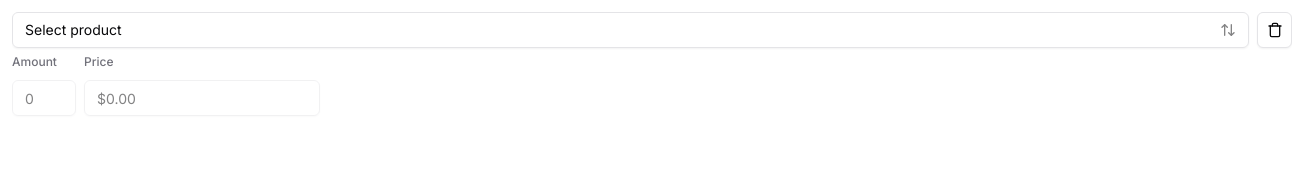
OrderProductField › resets amount to 0 when switching products
Click the dropdown: (73,30) [12,12,1249,48]
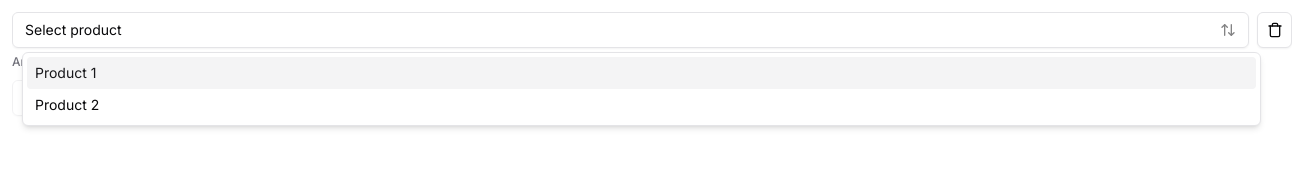
Click the option "Product 1": (66,72) [27,57,1256,89]
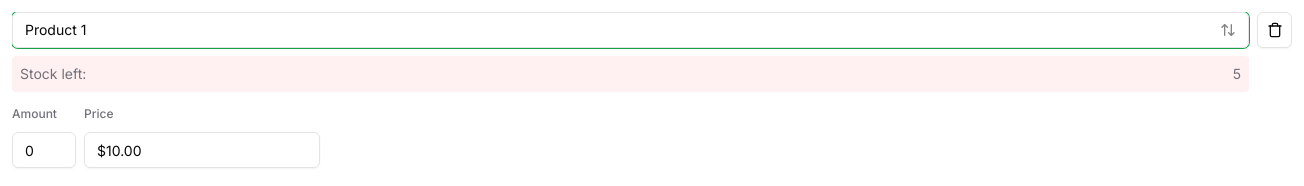
Replace the text in the number field with placeholder "Amount" with "3": (44,150) [12,132,76,168]
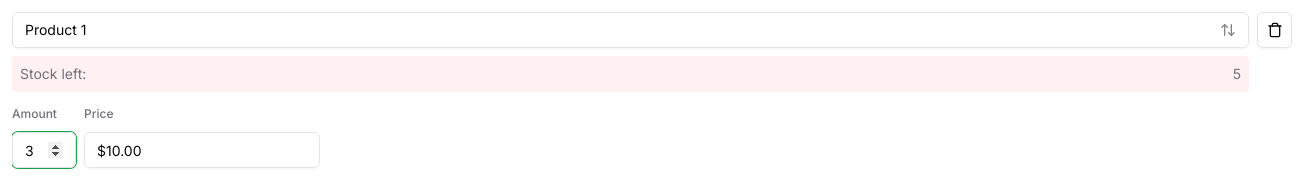
Click the dropdown: (56,30) [12,12,1249,48]
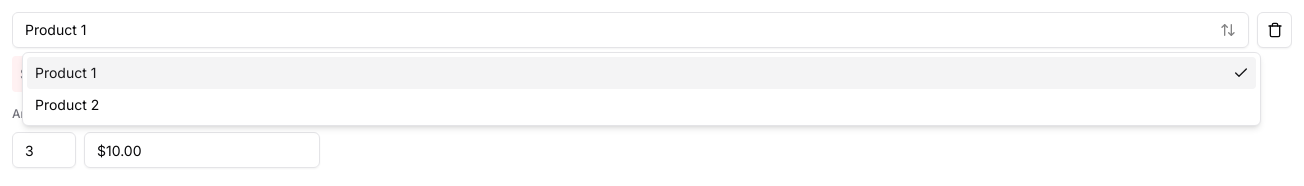
Click the option "Product 2": (67,104) [35,96,99,113]
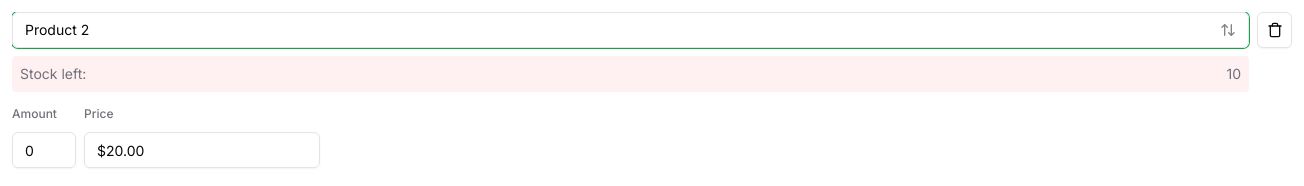
Now the number field with placeholder "Amount" holds "0", box [12,132,76,168]
